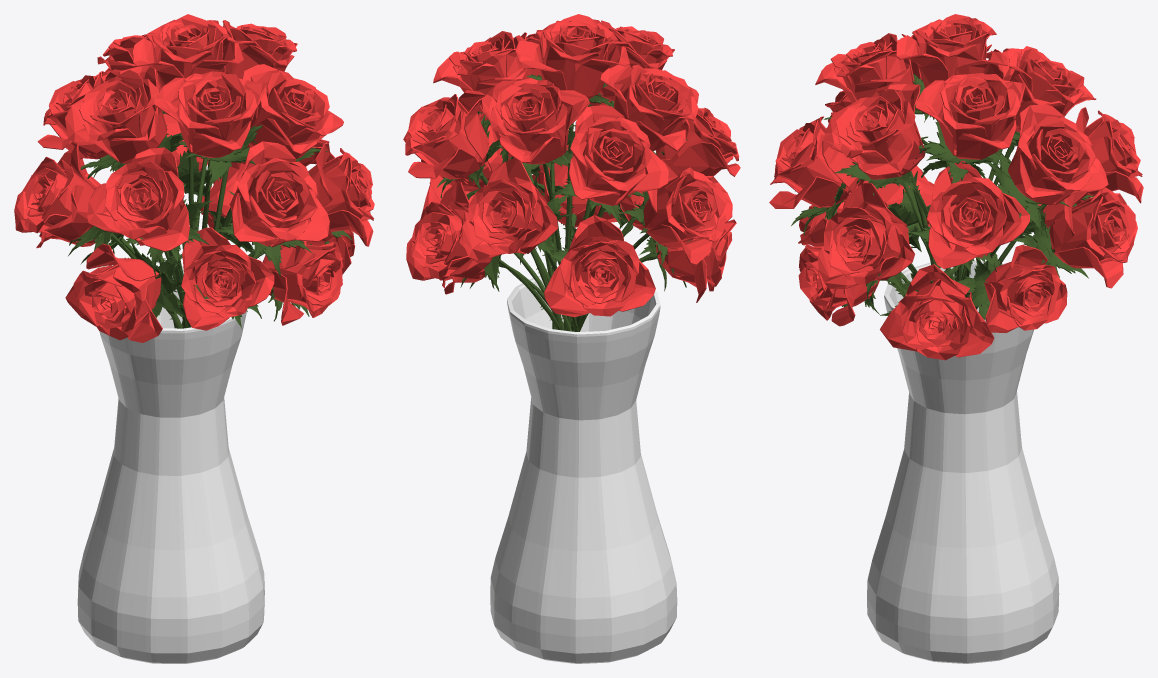
Rendered from flower.fbx.
The picture shows the model from 3 angles, left to right: view 1: azimuth 30°, elevation 25°; view 2: azimuth 150°, elevation 25°; view 3: azimuth 270°, elevation 25°; orthographic projection. The views are drawn at different scales.
Visible parts, largest first — view 1: EoqHd5v3_jsp; view 2: EoqHd5v3_jsp; view 3: EoqHd5v3_jsp.
Part boxes in pixels (bbox=[...]): EoqHd5v3_jsp: bbox=[14, 14, 374, 663]; EoqHd5v3_jsp: bbox=[403, 14, 740, 663]; EoqHd5v3_jsp: bbox=[769, 14, 1143, 663].
Size of the model in its own units: 23.7 by 44.72 by 24.92.
